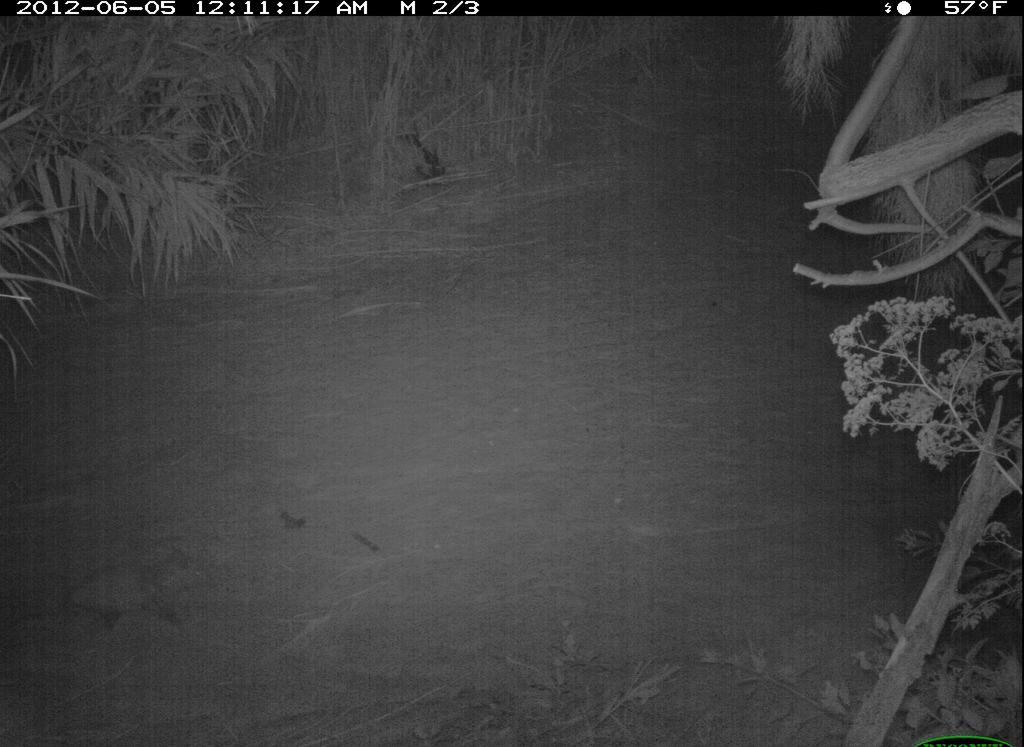opossum: (36, 551, 217, 646)
